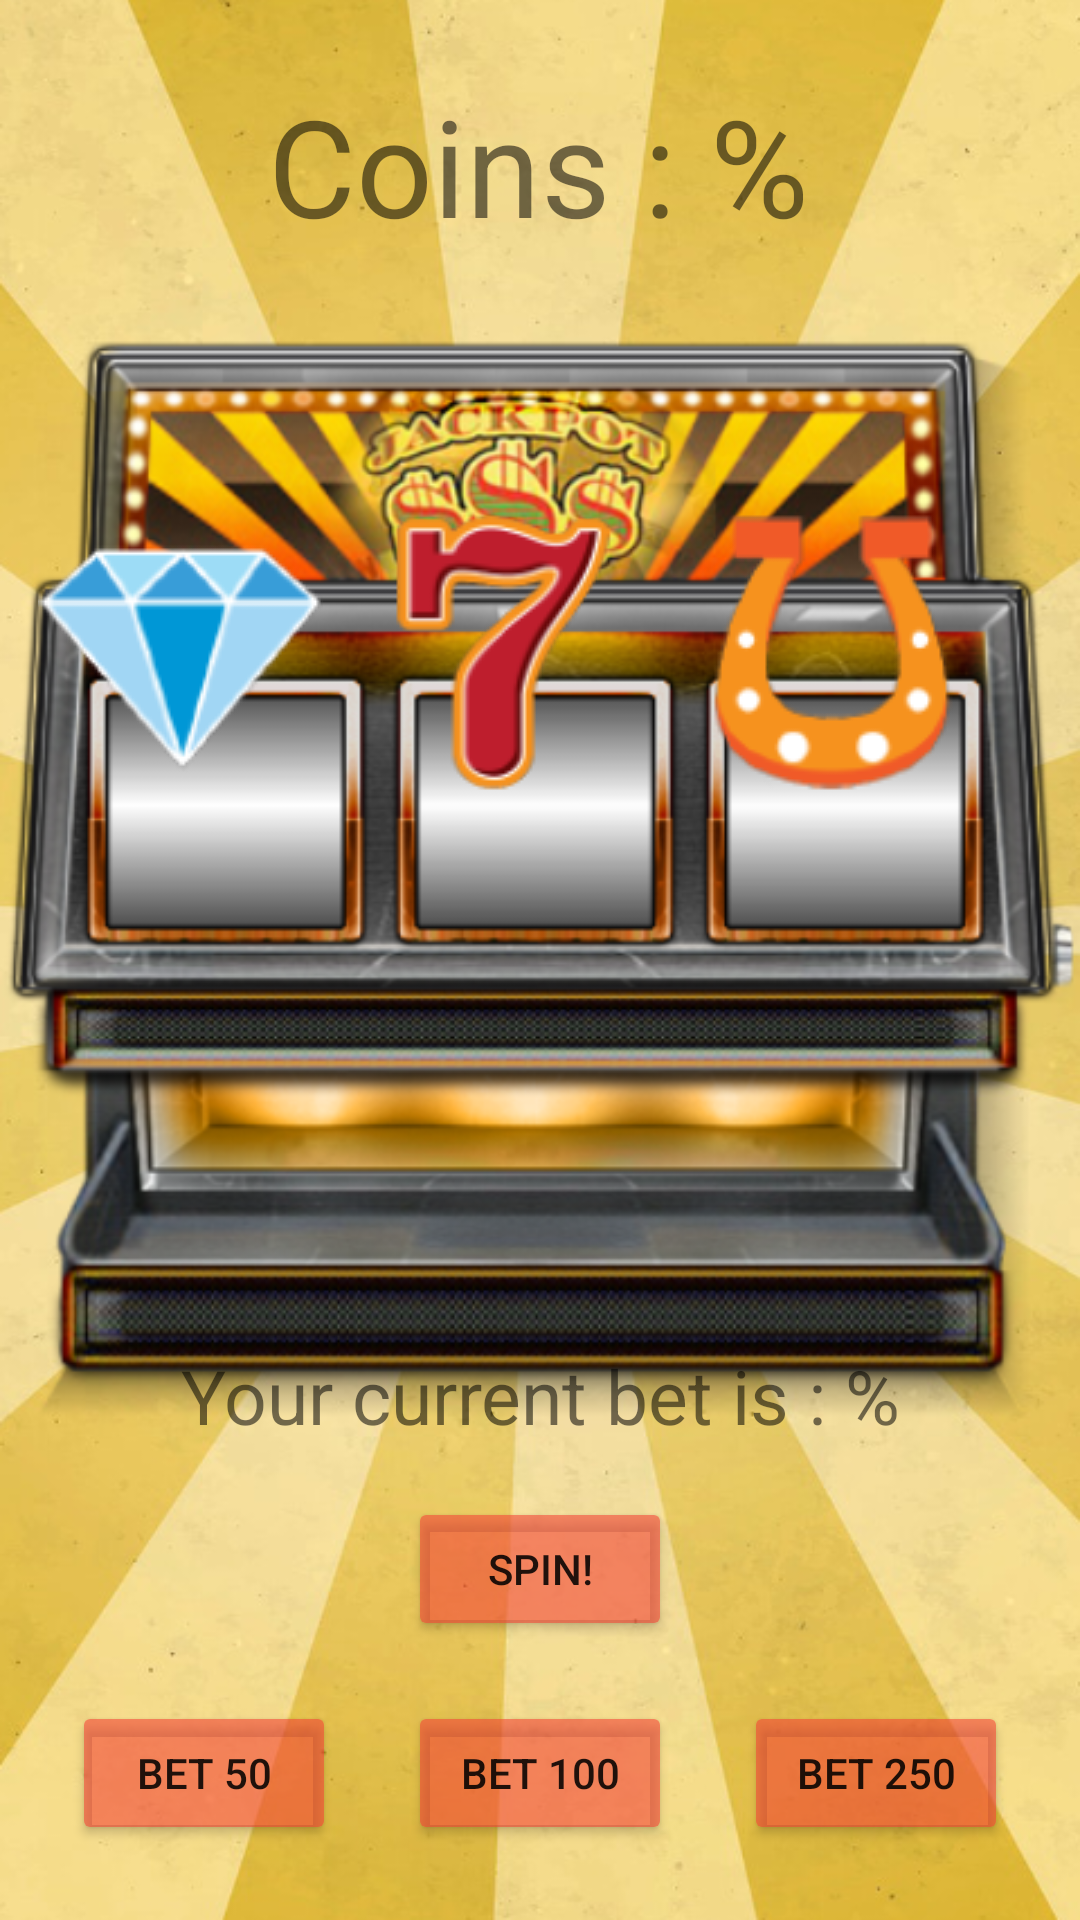

Named icons in this screenshot (1080*1920) and their centers, point (x, y):
sloticon: point (180, 652), point (503, 652), point (830, 652)
